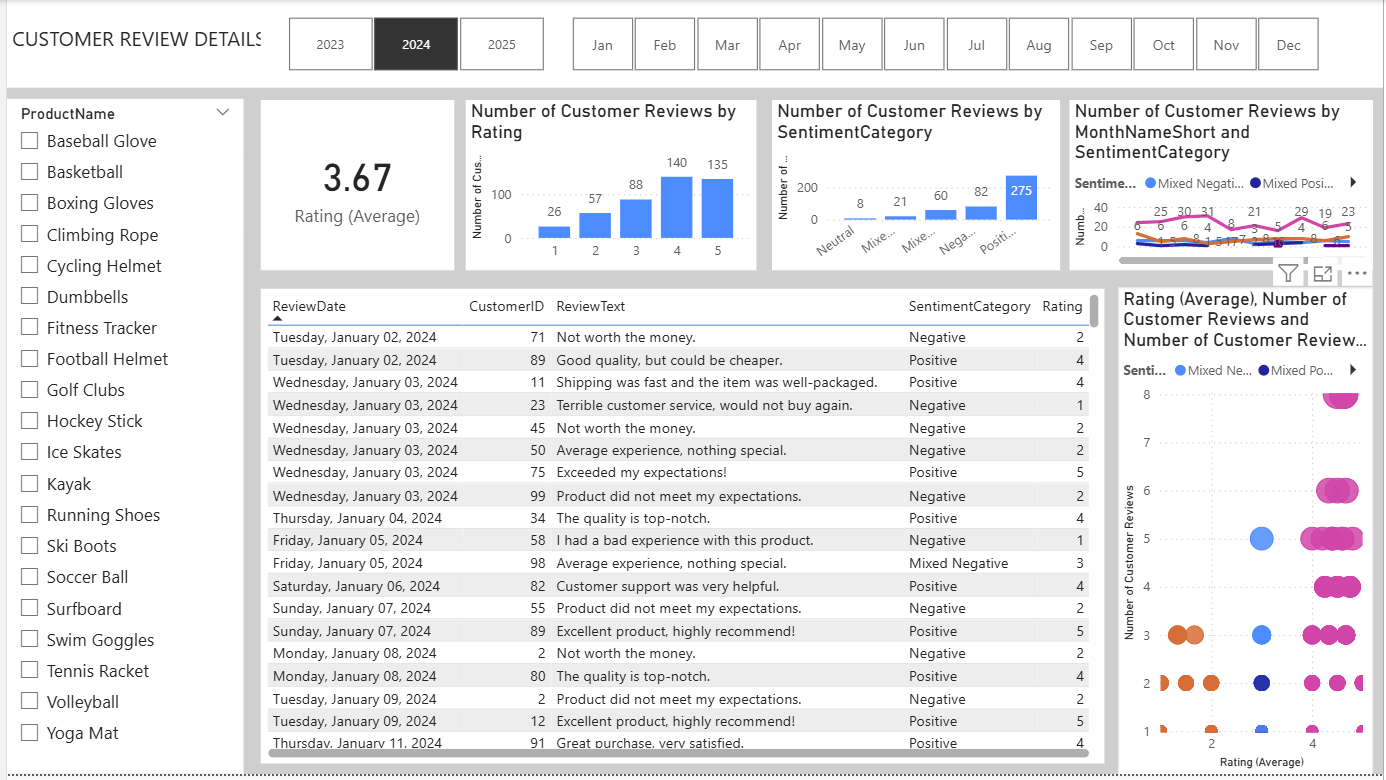

The page's visual inventory and layout, read from the dashboard file:
{"tool":"powerbi","page":{"name":"Customer Review Details","canvas":[1280,720],"ordinal":3},"visuals":[{"type":"textbox","box":[0,0,1280.2,81.9],"z":0},{"type":"slicer","fields":{"Values":["dim_products.ProductName"]},"box":[0,91.9,219.8,627.9],"z":1000},{"type":"slicer","fields":{"Values":["Calender.Year"]},"box":[236,9.3,287.2,62.8],"z":2000},{"type":"slicer","fields":{"Values":["Calender.MonthNameShort"]},"box":[500,9.3,744.2,62.8],"z":3000},{"type":"card","fields":{"Values":["_Calculations.Rating (Average)"]},"box":[236.5,92.5,180.1,158.5],"z":4000},{"type":"clusteredColumnChart","fields":{"Y":["_Calculations.Number of Customer Reviews"],"Category":["fact_customer_reviews_with_sentiment.Rating"]},"box":[426.3,92.5,270.2,158.5],"z":5000},{"type":"clusteredColumnChart","fields":{"Y":["_Calculations.Number of Customer Reviews"],"Category":["fact_customer_reviews_with_sentiment.SentimentCategory"]},"box":[712,92.5,267.8,158.5],"z":6000},{"type":"lineChart","fields":{"Y":["_Calculations.Number of Customer Reviews"],"Category":["Calender.MonthNameShort"],"Series":["fact_customer_reviews_with_sentiment.SentimentCategory"]},"box":[988.2,92.5,282.2,158.5],"z":7000},{"type":"tableEx","fields":{"Values":["fact_customer_reviews_with_sentiment.ReviewDate","fact_customer_reviews_with_sentiment.CustomerID","fact_customer_reviews_with_sentiment.ReviewText","fact_customer_reviews_with_sentiment.SentimentCategory","fact_customer_reviews_with_sentiment.Rating"]},"box":[236.6,268.3,784.7,441.5],"z":8000},{"type":"scatterChart","fields":{"X":["_Calculations.Rating (Average)"],"Y":["_Calculations.Number of Customer Reviews"],"Category":["dim_customers.CustomerID"],"Series":["fact_customer_reviews_with_sentiment.SentimentCategory"],"Size":["_Calculations.Number of Customer Reviews"]},"box":[1033.8,267.8,236.5,452.7],"z":8001}]}

Visuals, with their boxes in screenshot pixels (x1, y1, x2, y2), scaled from the page's 1280x720 canvas onto the 1386x780 screenshot:
textbox: [0, 0, 1385, 89]
slicer - dim_products.ProductName: [0, 100, 238, 779]
slicer - Calender.Year: [256, 10, 567, 78]
slicer - Calender.MonthNameShort: [541, 10, 1347, 78]
card - _Calculations.Rating (Average): [256, 100, 451, 272]
clusteredColumnChart - _Calculations.Number of Customer Reviews x fact_customer_reviews_with_sentiment.Rating: [462, 100, 754, 272]
clusteredColumnChart - _Calculations.Number of Customer Reviews x fact_customer_reviews_with_sentiment.SentimentCategory: [771, 100, 1061, 272]
lineChart - _Calculations.Number of Customer Reviews x Calender.MonthNameShort: [1070, 100, 1376, 272]
tableEx - fact_customer_reviews_with_sentiment.ReviewDate x fact_customer_reviews_with_sentiment.CustomerID: [256, 291, 1106, 769]
scatterChart - _Calculations.Rating (Average) x _Calculations.Number of Customer Reviews: [1119, 290, 1375, 779]
